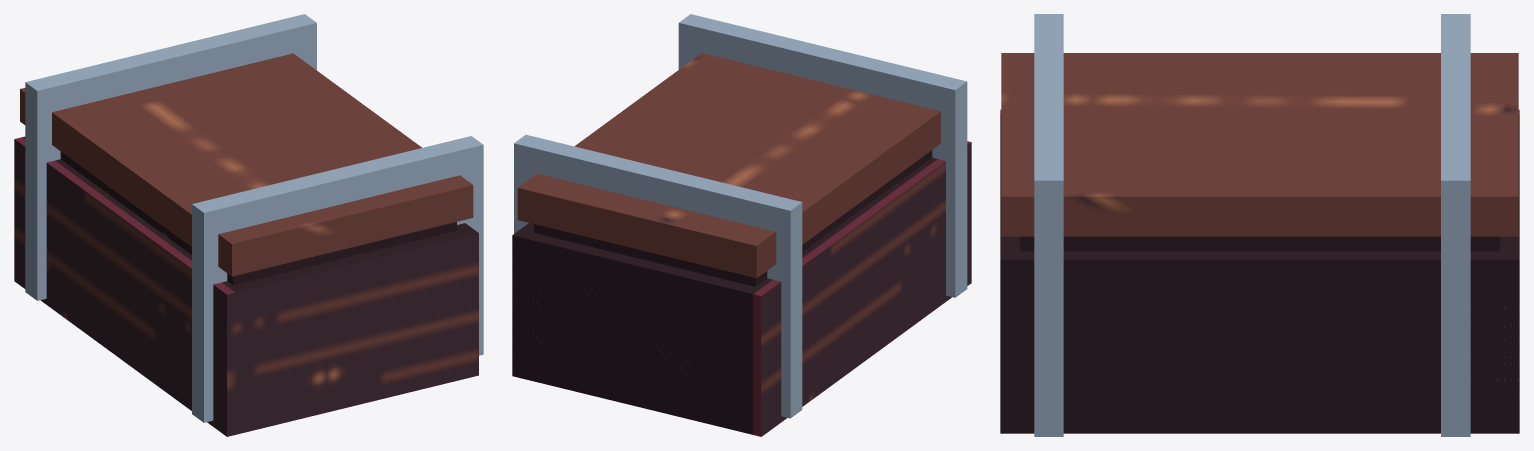
The model's file is Bau.fbx.
3 renders of one model, left to right at view 1: azimuth 30°, elevation 25°; view 2: azimuth 150°, elevation 25°; view 3: azimuth 270°, elevation 25°, orthographic. The views are drawn at different scales.
Parts seen in each view (by area): view 1: Bau; view 2: Bau; view 3: Bau.
Boxes of the visible parts, <box> form: Bau: <box>14,14,483,436</box>; Bau: <box>512,14,971,436</box>; Bau: <box>1000,14,1519,436</box>.
Size of the model in its own units: 52.51 by 69.18 by 38.79.
